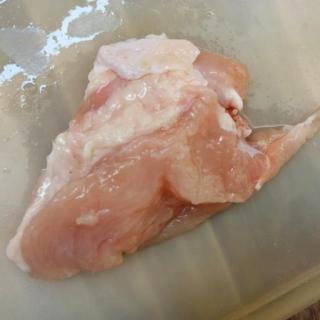Ayam: (6, 32, 320, 282)
